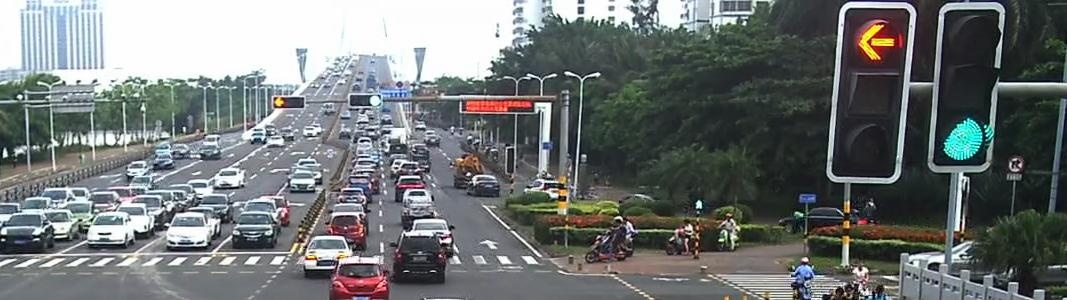green: (940, 117, 989, 166), (369, 97, 379, 106)
greenpeople: (692, 198, 703, 210)
redleft: (852, 17, 900, 61), (270, 95, 287, 110)
